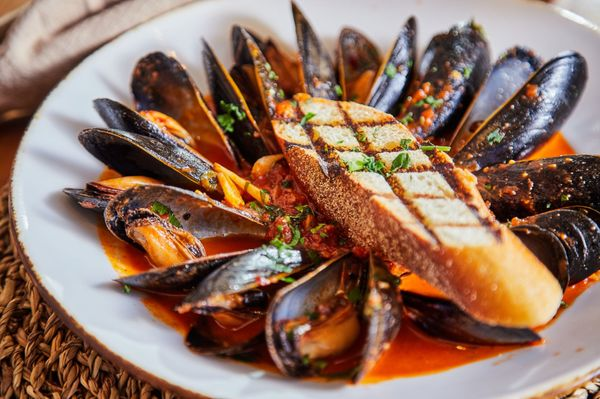pasta: (449, 49, 588, 172)
sandwich: (202, 36, 285, 163)
soup: (274, 97, 580, 335)
